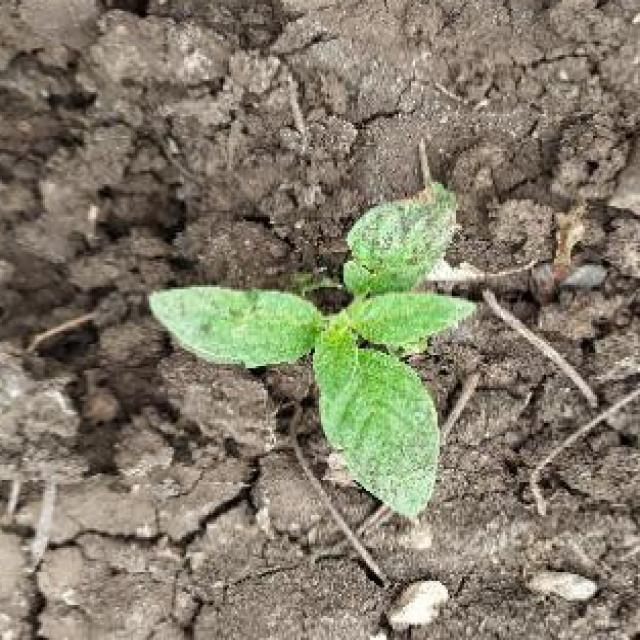crop: (168, 78, 591, 546)
